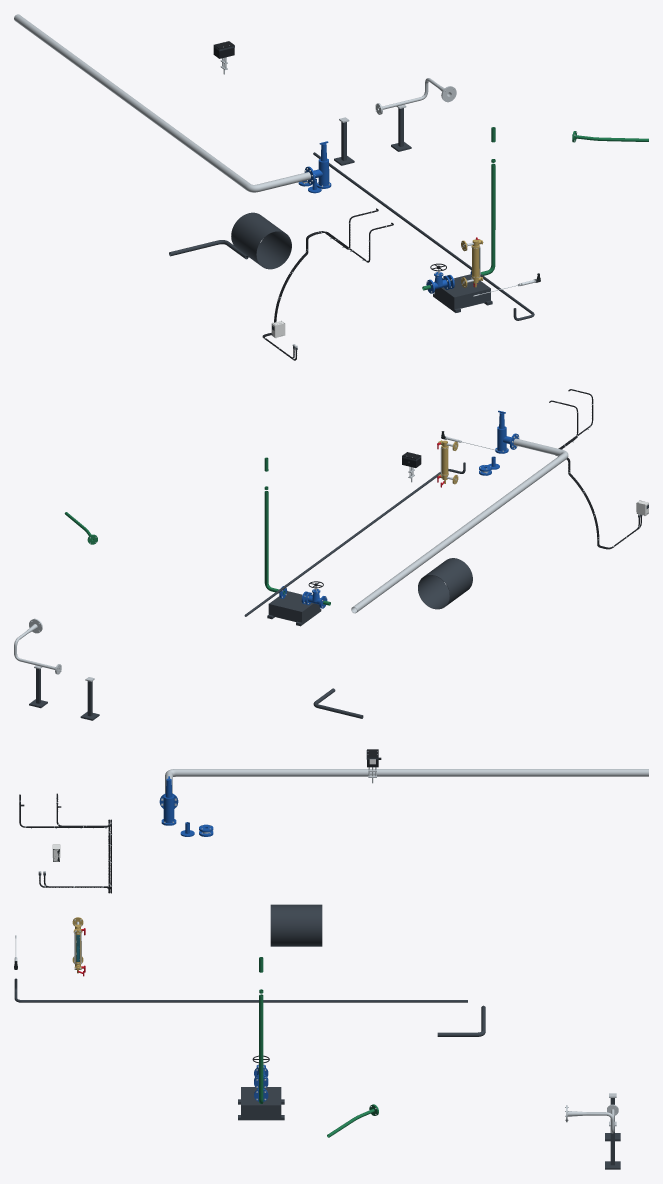
Rendered from s4000-7-zBcHNKGE.glb.
3 renders of one model, top to bottom at view 1: azimuth 30°, elevation 25°; view 2: azimuth 150°, elevation 25°; view 3: azimuth 270°, elevation 25°, orthographic. The views are drawn at different scales.
Parts seen in each view (by area): view 1: safety_vent_1 / steel, flue_spacer / dark, pump_branch_2 / dark, tds_common / dark, pump_branch_2 / green, trap_support / dark, safety_1 / blue, fv_to_trap_gap / steel, sight_glasses_2 / sight_glasses_2_0.npz, wiring_lp200 / black; view 2: safety_vent_1 / steel, flue_spacer / dark, pump_branch_2 / dark, tds_common / dark, pump_branch_2 / green, trap_support / dark, sight_glasses_2 / sight_glasses_2_0.npz, safety_1 / blue, fv_to_trap_gap / steel; view 3: safety_vent_1 / steel, flue_spacer / dark, tds_common / dark, pump_branch_2 / dark, pump_branch_2 / green.
Boxes of the visible parts, x1,y1,x2,y2 form: safety_vent_1 / steel: [14, 14, 310, 192]; flue_spacer / dark: [231, 212, 291, 269]; pump_branch_2 / dark: [433, 274, 492, 312]; tds_common / dark: [313, 152, 534, 320]; pump_branch_2 / green: [422, 127, 495, 290]; trap_support / dark: [334, 108, 411, 165]; safety_1 / blue: [304, 141, 331, 188]; fv_to_trap_gap / steel: [375, 78, 456, 114]; sight_glasses_2 / sight_glasses_2_0.npz: [461, 237, 483, 287]; wiring_lp200 / black: [264, 222, 393, 360]; safety_vent_1 / steel: [351, 438, 568, 613]; flue_spacer / dark: [418, 558, 472, 609]; pump_branch_2 / dark: [267, 591, 321, 626]; tds_common / dark: [244, 462, 465, 616]; pump_branch_2 / green: [264, 457, 330, 605]; trap_support / dark: [29, 668, 99, 720]; sight_glasses_2 / sight_glasses_2_0.npz: [437, 440, 458, 487]; safety_1 / blue: [495, 410, 519, 453]; fv_to_trap_gap / steel: [14, 618, 61, 674]; safety_vent_1 / steel: [165, 769, 648, 793]; flue_spacer / dark: [270, 904, 322, 946]; tds_common / dark: [14, 978, 467, 1002]; pump_branch_2 / dark: [238, 1087, 284, 1120]; pump_branch_2 / green: [259, 957, 263, 1103].
Size of the model in its own units: 5.82 by 2.85 by 6.14.
